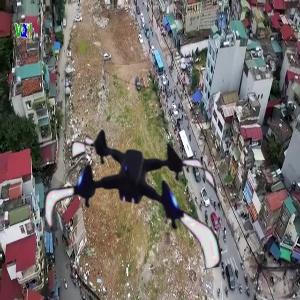drone: (39, 104, 221, 286)
